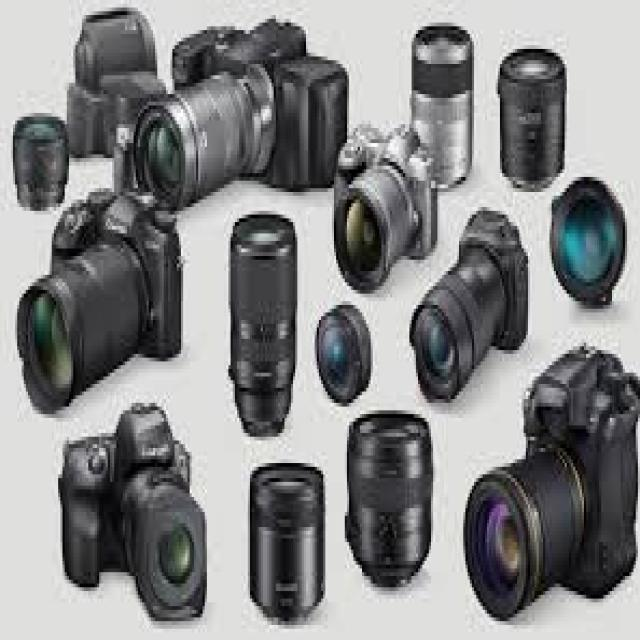camera: (466, 355, 639, 621), (132, 19, 346, 207), (18, 194, 178, 416), (60, 409, 211, 621), (411, 215, 526, 403), (333, 126, 434, 293), (348, 411, 432, 589), (231, 210, 295, 441), (60, 13, 160, 150), (249, 460, 325, 626), (549, 177, 625, 304), (502, 45, 566, 194), (414, 29, 474, 183), (14, 113, 64, 210)
